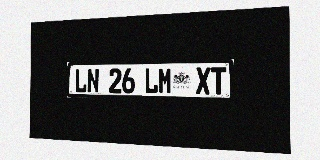2: (109, 68, 122, 93)
6: (122, 68, 135, 93)
L: (144, 68, 158, 94), (75, 69, 87, 93)
M: (158, 68, 172, 94)
N: (87, 68, 99, 93)
T: (211, 67, 226, 95)
X: (196, 67, 211, 94)
